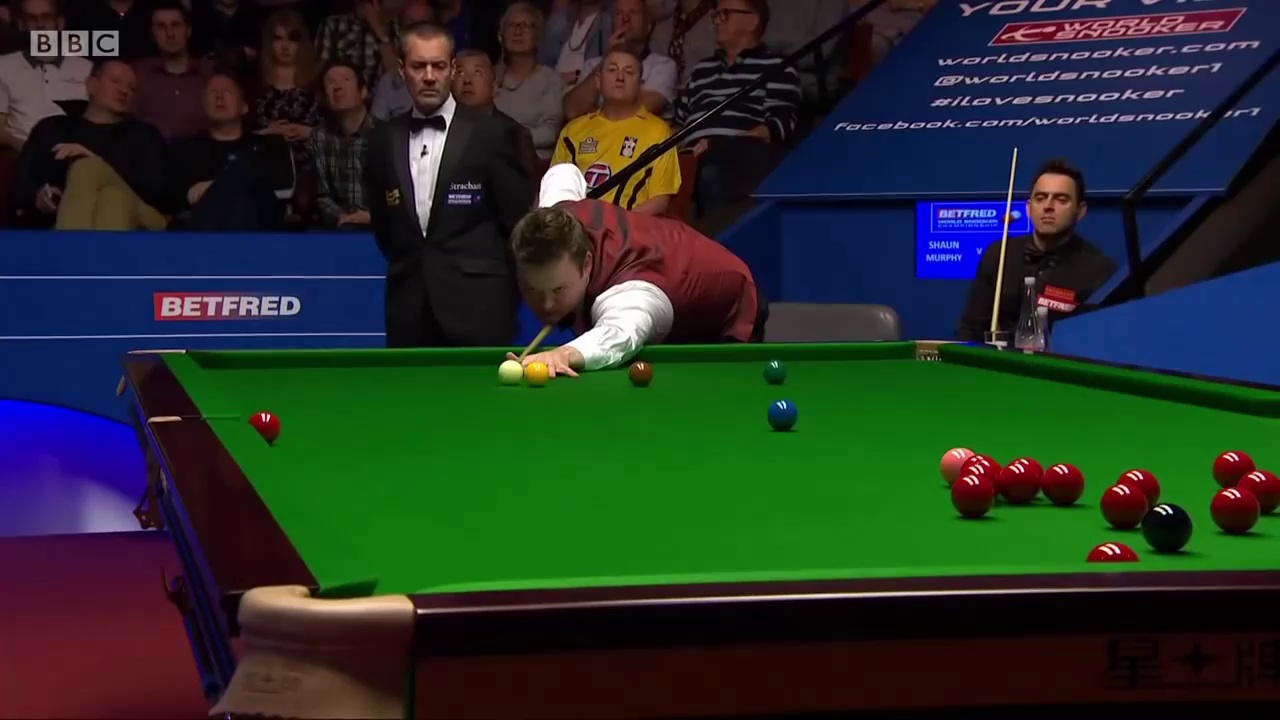black: (1144, 502, 1190, 549)
blue: (769, 398, 797, 429)
brown: (628, 359, 654, 383)
green: (761, 359, 788, 383)
red: (1102, 482, 1145, 532), (1213, 487, 1260, 531), (1044, 463, 1084, 506), (954, 476, 994, 518), (1003, 462, 1038, 505), (248, 412, 283, 431)
white: (496, 359, 522, 383)
yellow: (525, 363, 549, 387)
